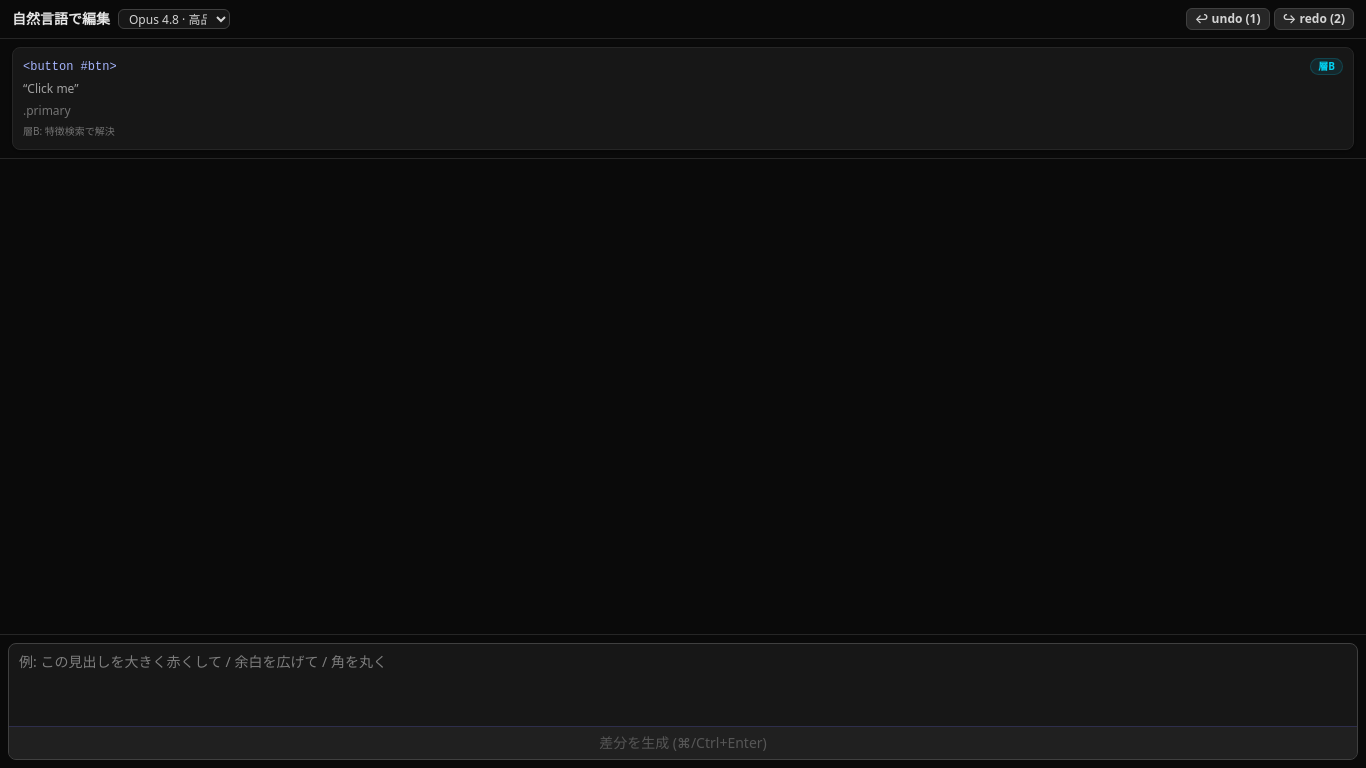
Scenario: Chat › 承認クリックで api.applyEdit が呼ばれ、成功メッセージが出る
The width and height of the screenshot is (1366, 768).
expect the button "↪ redo (2)" is shown: met, box x1=1274 y1=8 x2=1354 y2=30
Type "赤くして" into the text box with placeholder "例: この見出しを大きく赤くして / 余白を広げて / 角を丸く" at (683, 682), box x1=9 y1=644 x2=1357 y2=720
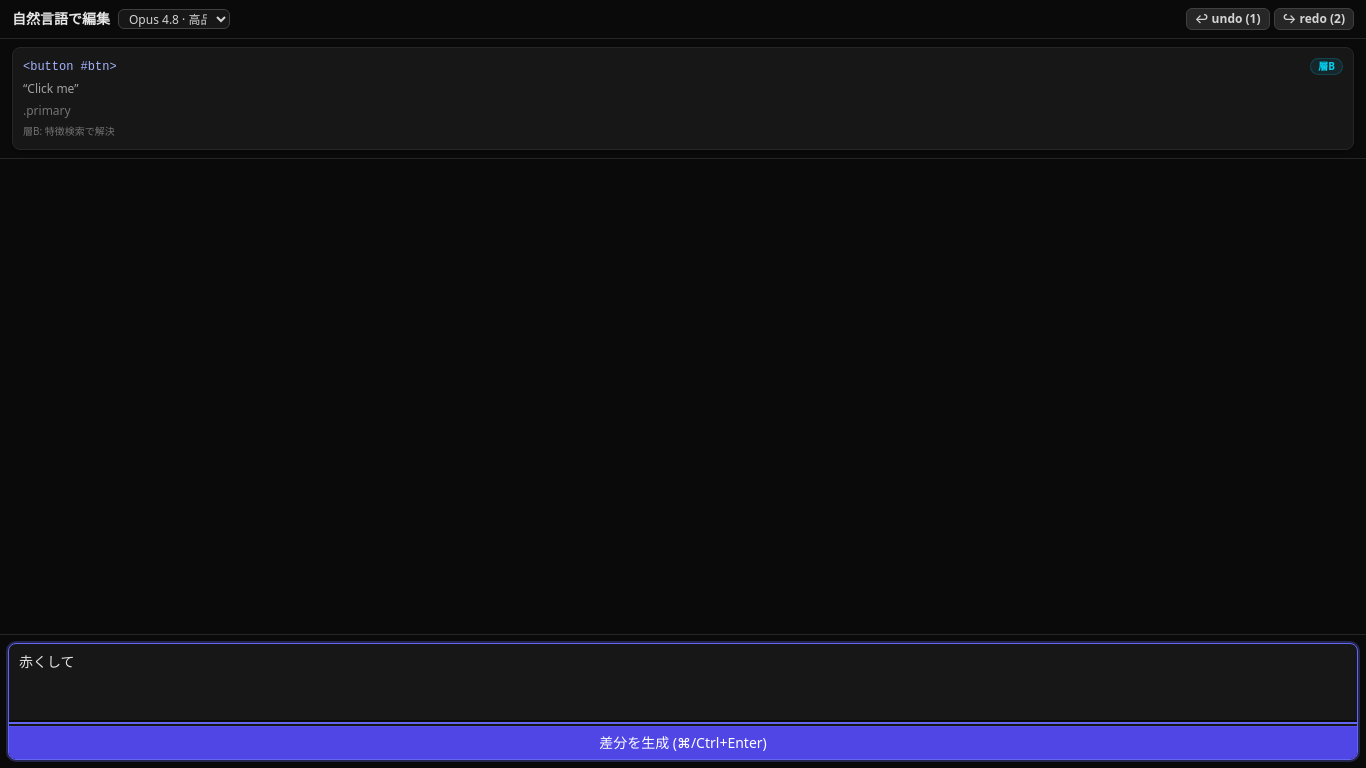
Click the button "差分を生成 (⌘/Ctrl+Enter)" at (683, 742), box x1=9 y1=726 x2=1357 y2=759
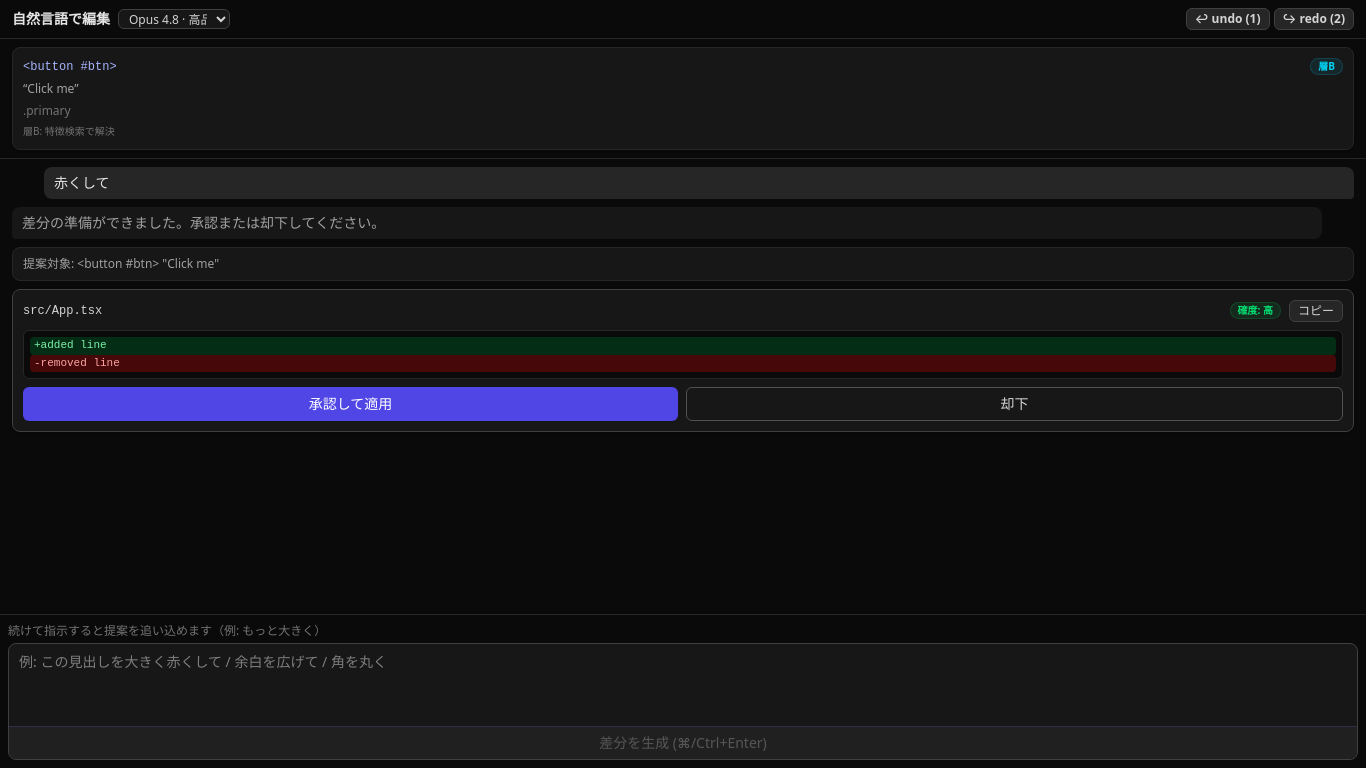
expect the button "承認して適用" is shown: met
Click the button "承認して適用" at (350, 404), box x1=23 y1=387 x2=678 y2=421
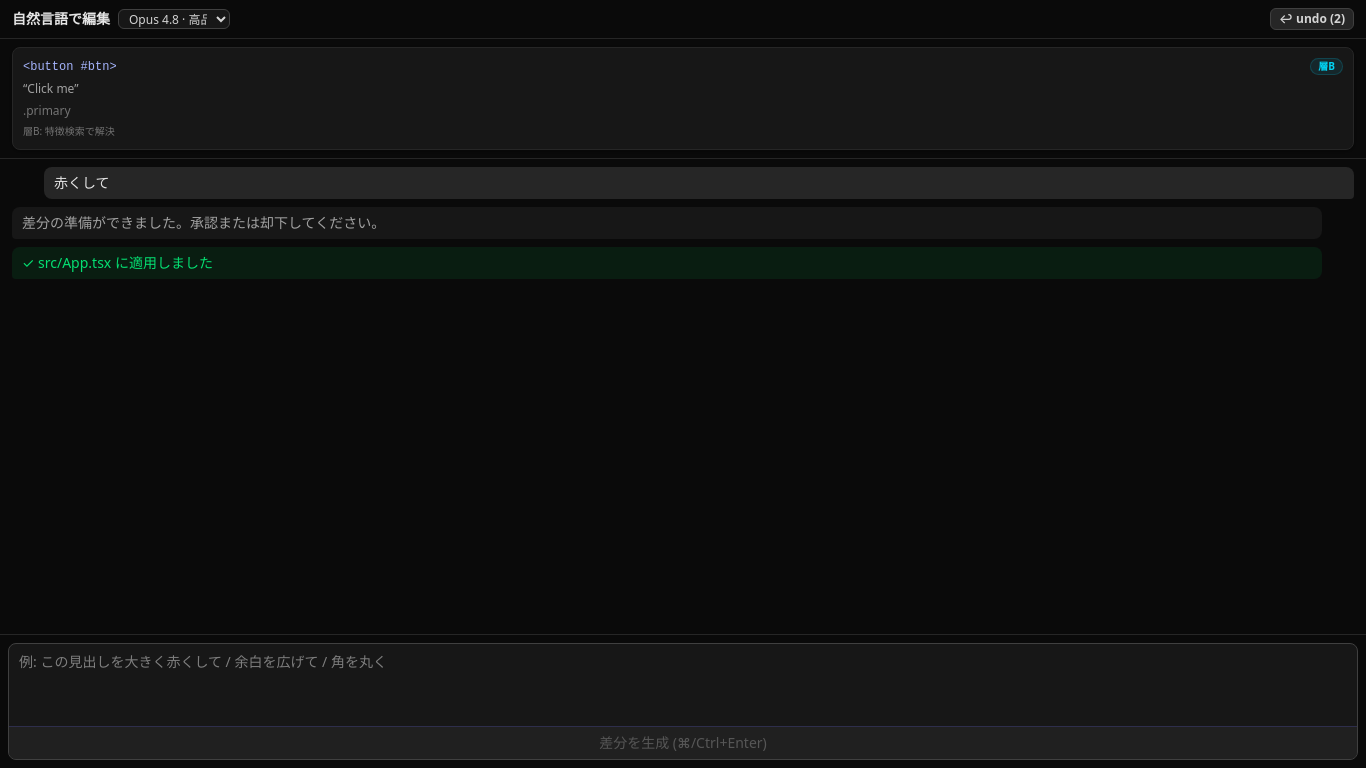
expect the text "✓ src/App.tsx に適用しました" is shown: met, box x1=12 y1=247 x2=1322 y2=279
expect the button "↩ undo (2)" is shown: met, box x1=1270 y1=8 x2=1354 y2=30
expect the button "redo" is gone: met
